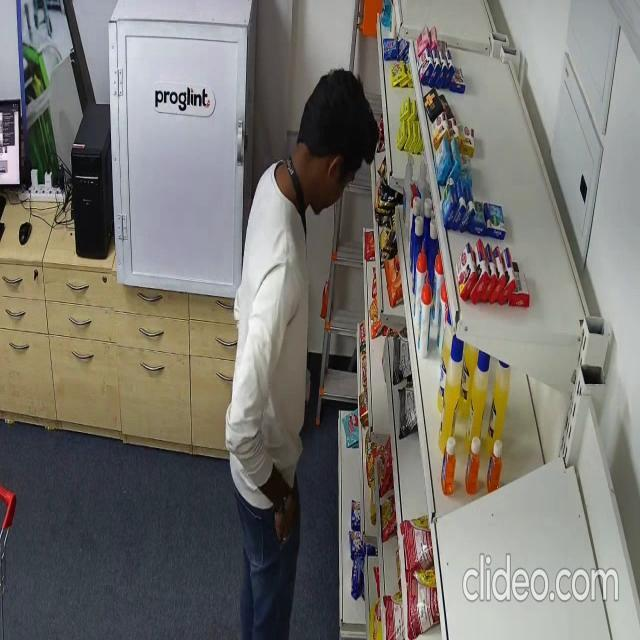Shoplifting: (224, 70, 378, 640)
